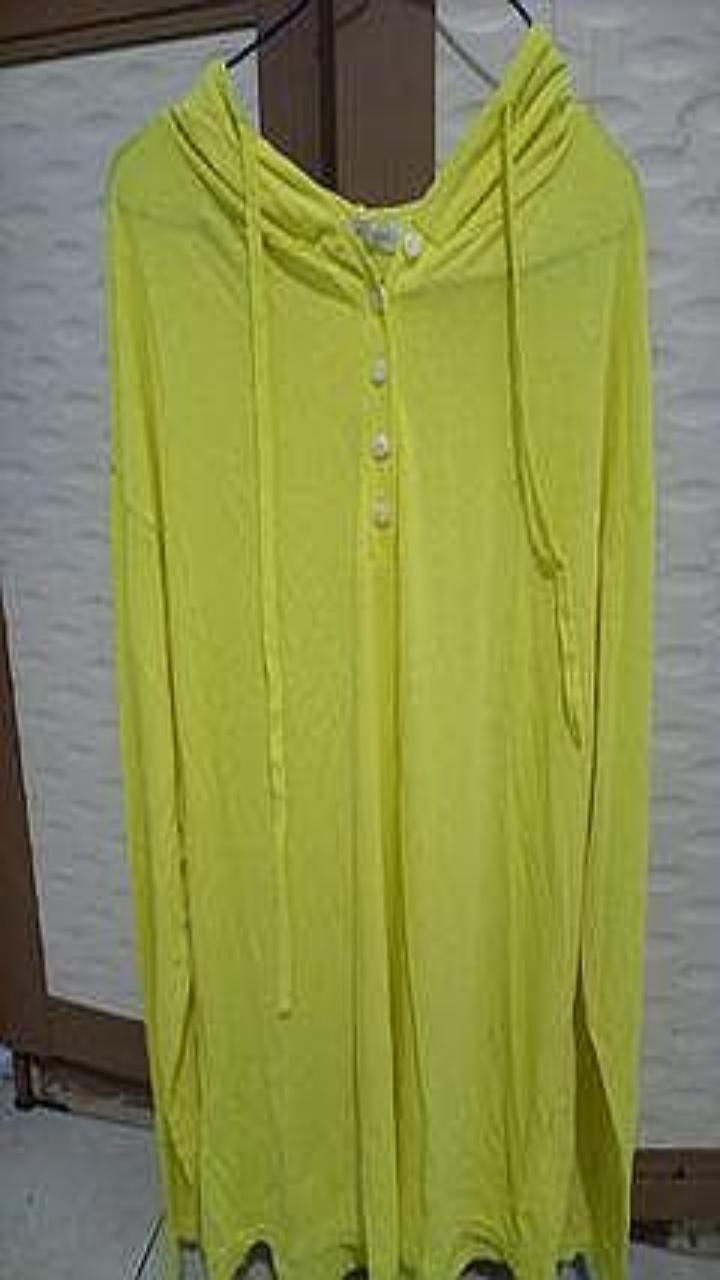T-Shirt: (105, 22, 653, 1279)
